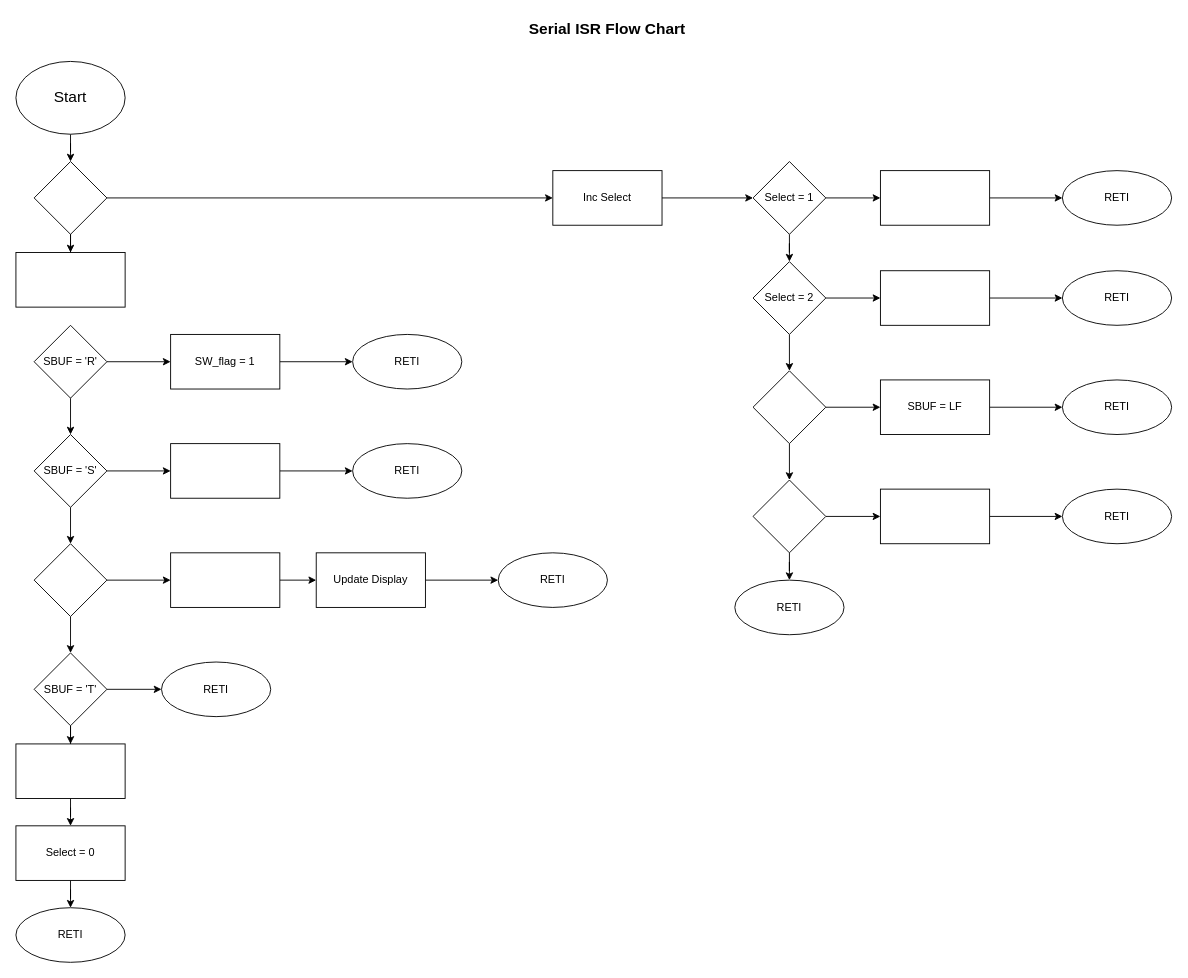
Image size: 1188x978. Some labels were removed from this diagram. Here are the shapes that lost their labels. From the top down, the box of each, then its label:
(880, 170, 990, 225): SBUF = '.'
(15, 252, 125, 307): Clr R!
(880, 270, 990, 325): SBUF = LSB BCD
(752, 370, 826, 444): Select = 3
(170, 443, 280, 498): SW_flag = 0
(752, 479, 826, 553): Select = 4
(880, 488, 990, 544): SBUF = CR
(33, 543, 107, 617): SBUF = 'C'
(170, 552, 280, 607): SW_time = 0 count = 10
(15, 743, 125, 799): Send Ones
